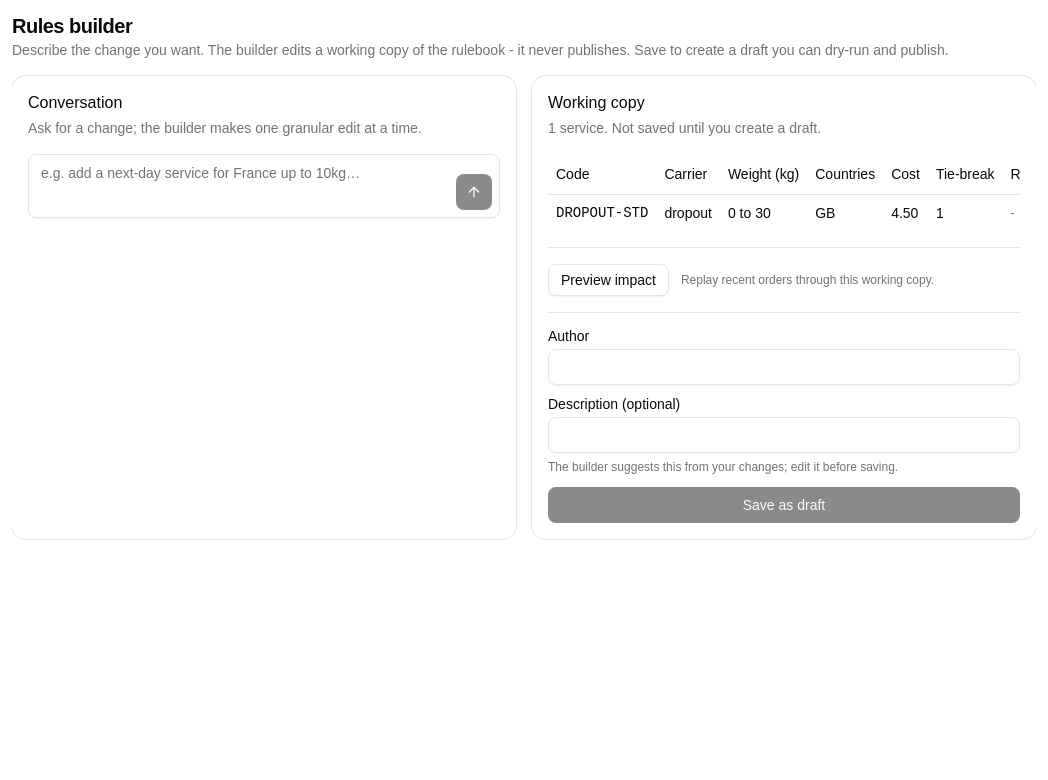
Test: BuilderPage › a stale rationale from an earlier turn does not overwrite a newer one
Type "turn one" into the text box named "message the rules builder" at point(264, 186), box [28,154,500,218]
Then press Enter
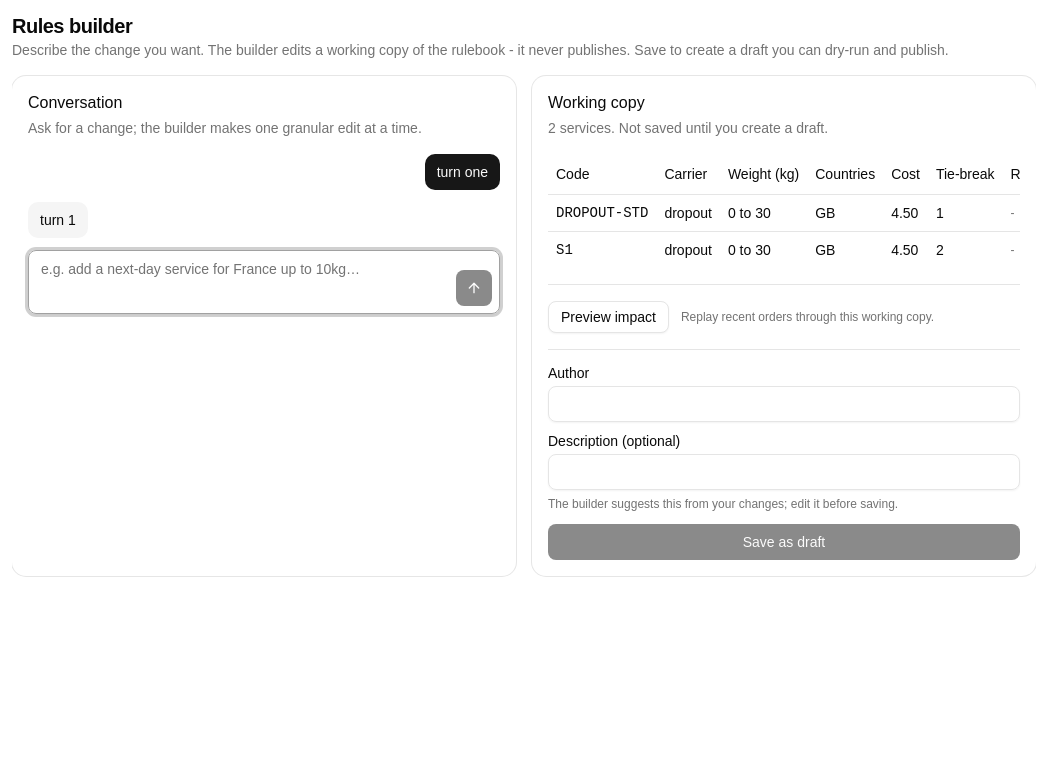
Check: the text "turn 1" is shown, box [28,202,88,238]
Type "turn two" into the text box named "message the rules builder" at point(264, 282), box [28,250,500,314]
Then press Enter
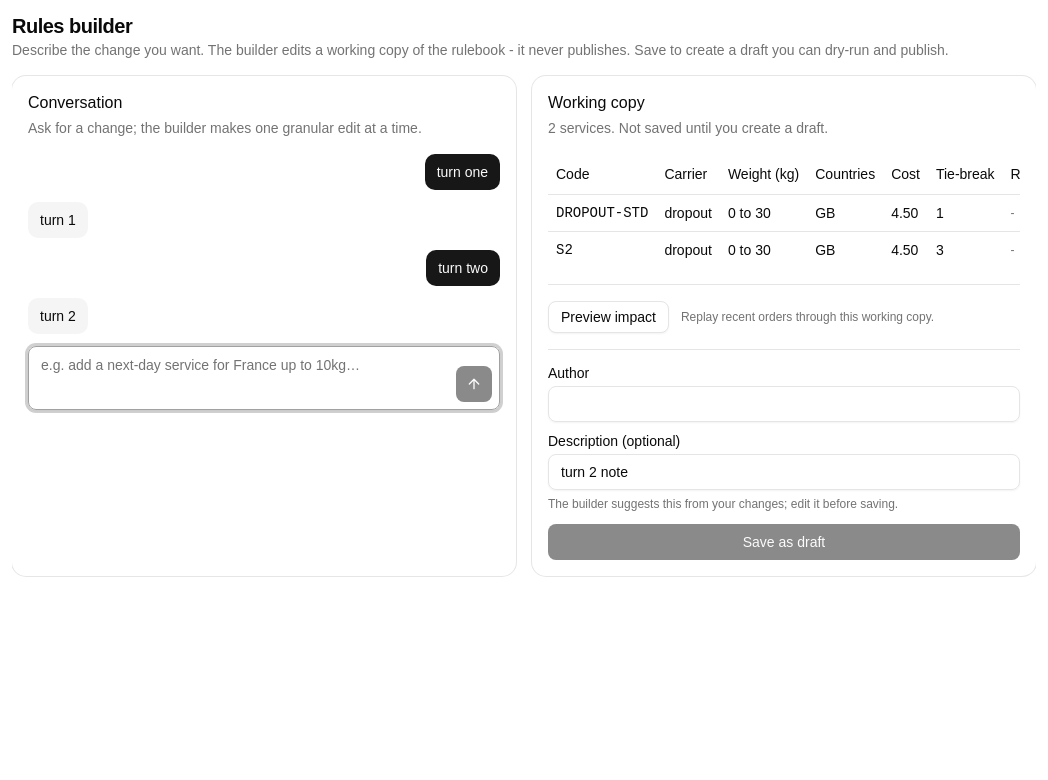
Check: the text "turn 2" is shown, box [28,298,88,334]
Check: the field labelled "Description (optional)" holds "turn 2 note", box [548,454,1020,490]
